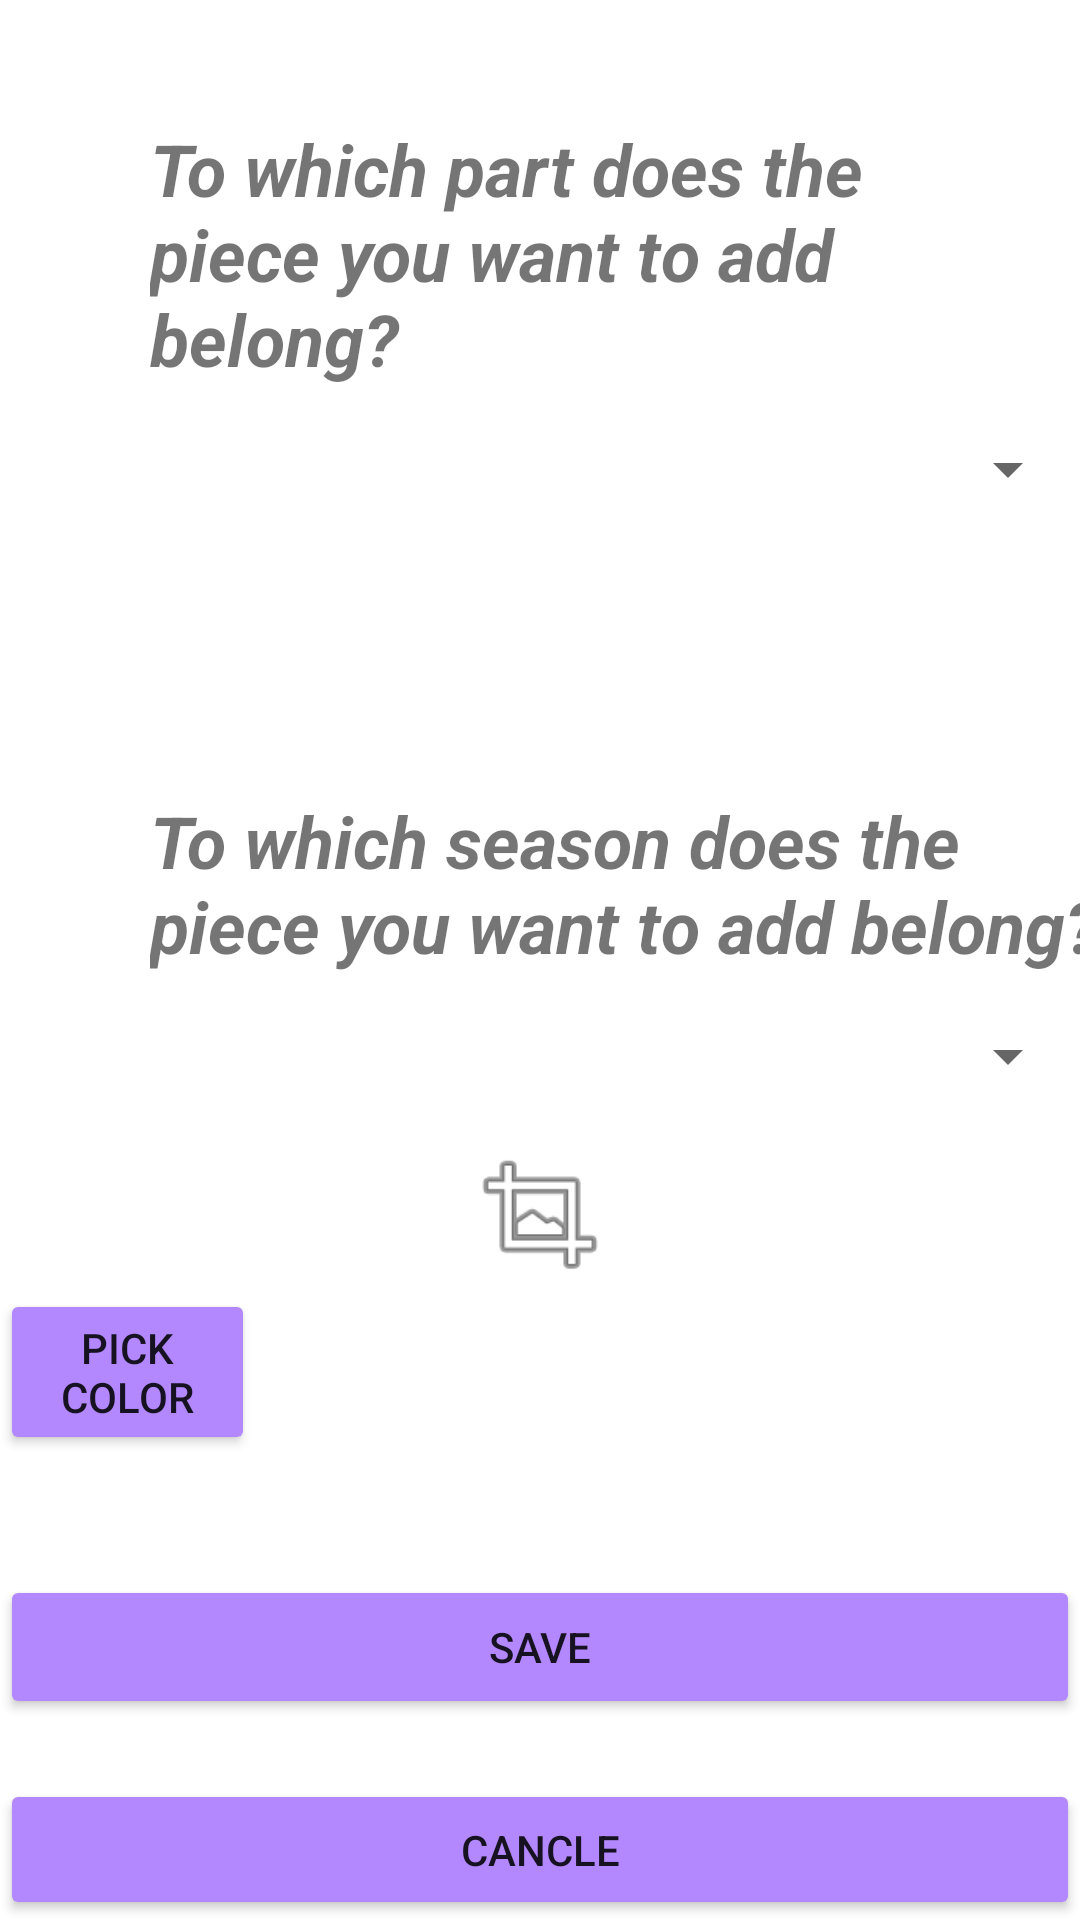

Point at icon controls on the screen. Image size 1080 x 1920, points as (x,y).
crop: (540,1214)
